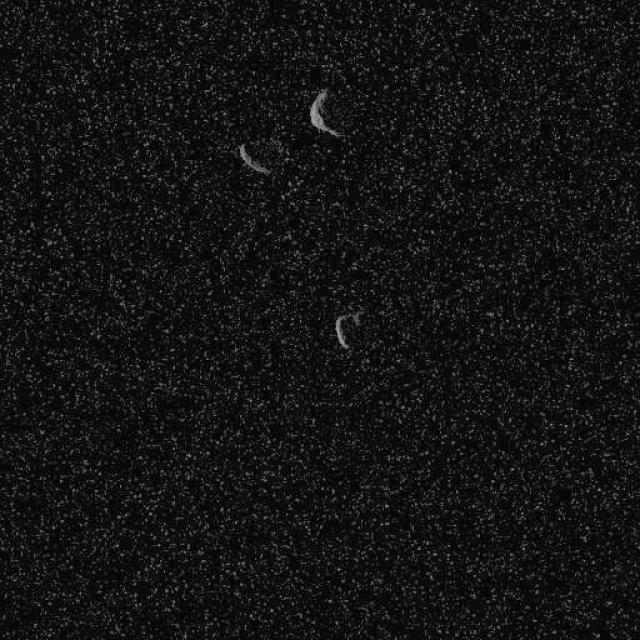D2: (307, 86, 345, 139), (235, 142, 273, 178), (332, 309, 362, 350)
